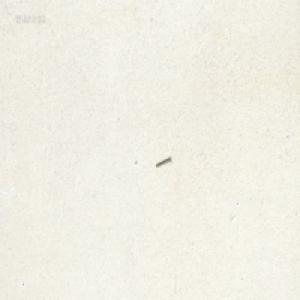Bolt: (154, 152, 171, 164)
